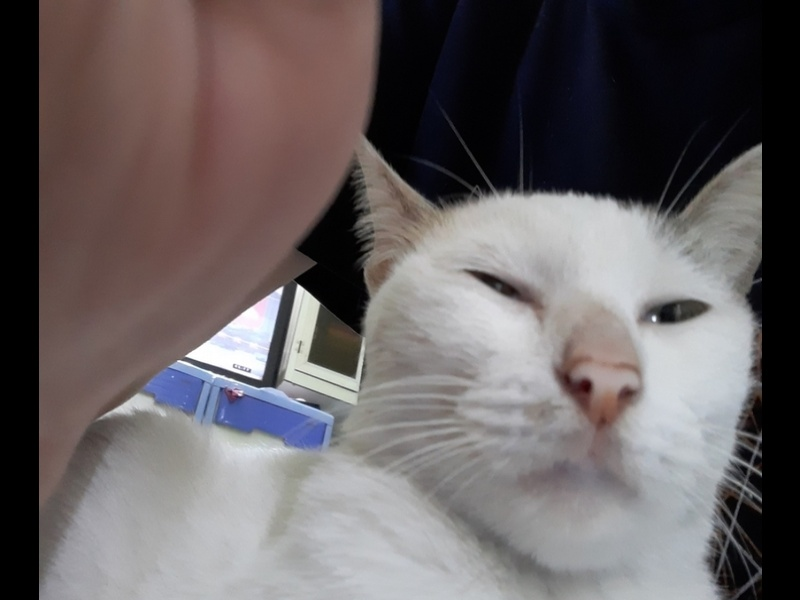cat: (43, 121, 761, 595)
